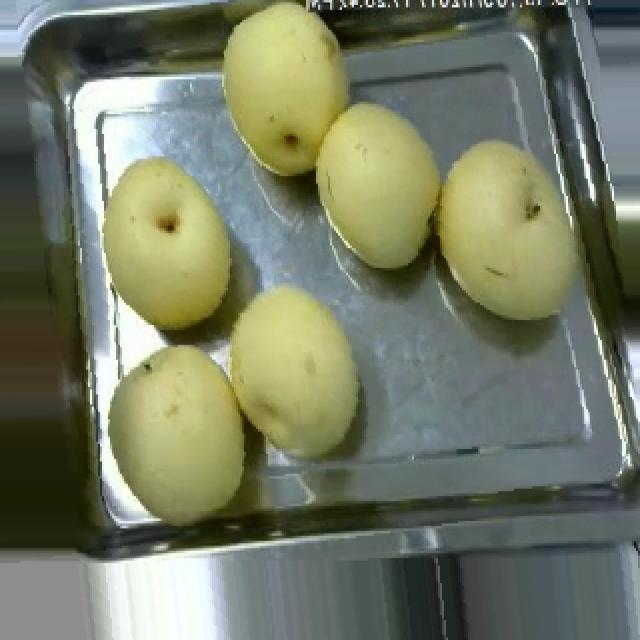Fruit: (420, 119, 600, 335), (96, 335, 264, 533), (302, 84, 456, 280), (92, 144, 244, 342), (218, 273, 372, 466), (210, 2, 366, 188)
